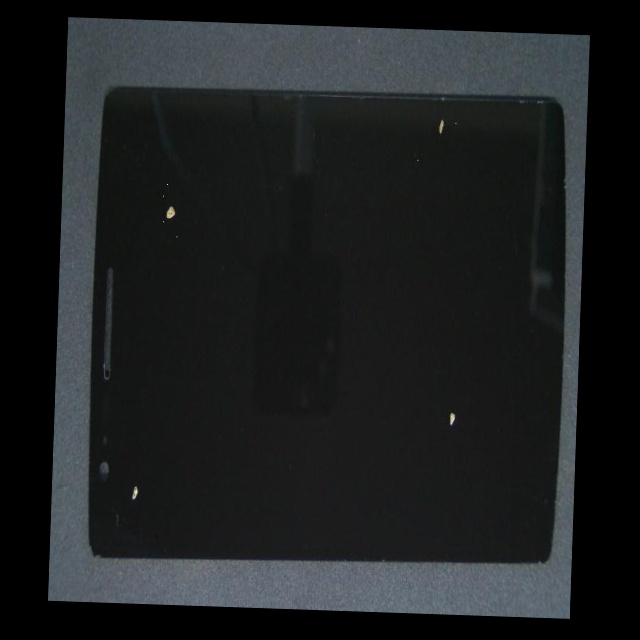stain: (247, 164, 585, 581), (227, 57, 589, 206), (72, 266, 195, 605), (130, 122, 235, 280)
